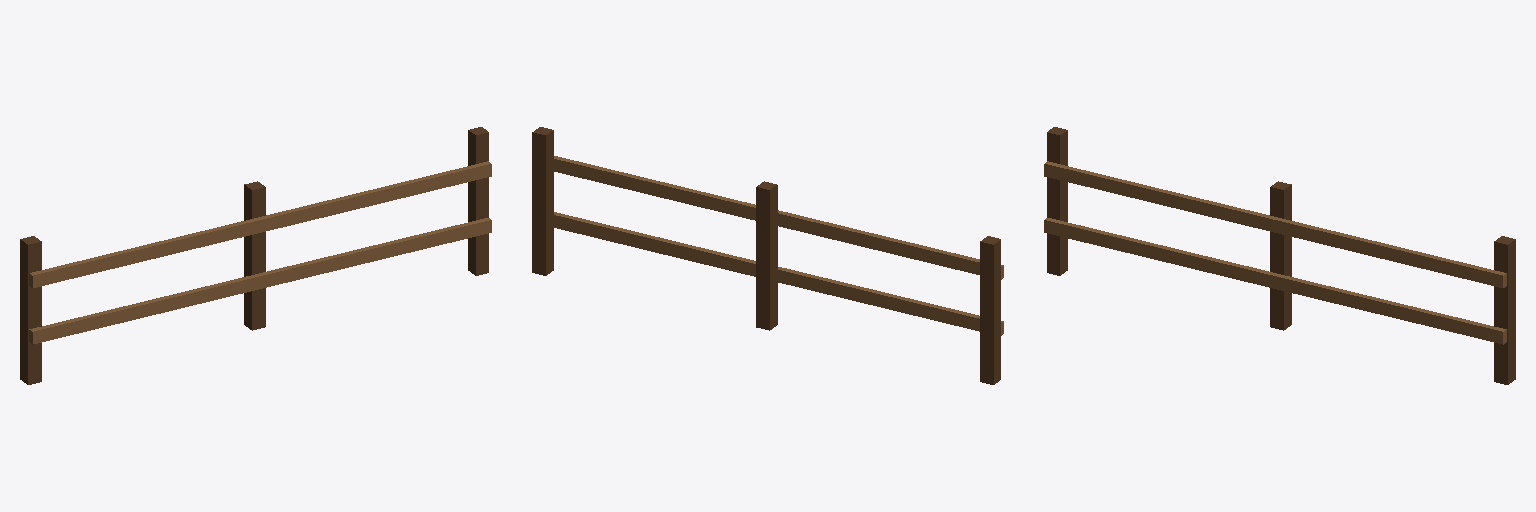
robot.urdf — fence:
<?xml version="1.0" encoding="utf-8"?>
<!-- Generated by tools/generate_assets.py -->
<robot name="fence">
  <link name="base_link">
    <inertial>
      <mass value="0" />
      <inertia ixx="0" ixy="0" ixz="0" iyy="0" iyz="0" izz="0" />
    </inertial>
    <visual name="part_0">
      <geometry><mesh filename="meshes/fence_v0.obj" /></geometry>
      <material name="fence_0"><color rgba="0.4 0.29 0.19 1" /></material>
    </visual>
    <visual name="part_1">
      <geometry><mesh filename="meshes/fence_v1.obj" /></geometry>
      <material name="fence_1"><color rgba="0.56 0.42 0.28 1" /></material>
    </visual>
    <collision name="hull_0">
      <geometry><mesh filename="meshes/fence_c0.obj" /></geometry>
    </collision>
    <collision name="hull_1">
      <geometry><mesh filename="meshes/fence_c1.obj" /></geometry>
    </collision>
    <collision name="hull_2">
      <geometry><mesh filename="meshes/fence_c2.obj" /></geometry>
    </collision>
    <collision name="hull_3">
      <geometry><mesh filename="meshes/fence_c3.obj" /></geometry>
    </collision>
    <collision name="hull_4">
      <geometry><mesh filename="meshes/fence_c4.obj" /></geometry>
    </collision>
  </link>
</robot>

--- What the picture shows (computed from the rendered views, not written in the file) ---
The picture shows the robot from 3 angles, left to right: view 1: azimuth 30°, elevation 25°; view 2: azimuth 150°, elevation 25°; view 3: azimuth 330°, elevation 25°; orthographic projection.
Model fence with 1 links and 0 joints (none), rooted at base_link, posed all joints at 0.
Visible links, largest first — view 1: base_link; view 2: base_link; view 3: base_link.
Link boxes in pixels (left/top/right/bottom): base_link: left=20, top=127, right=491, bottom=384; base_link: left=532, top=127, right=1003, bottom=384; base_link: left=1044, top=127, right=1515, bottom=384.
Bounding box of the posed robot: 4.12 × 0.17 × 1.2 m (x, y, z).
2 mesh visuals loaded from 2 distinct referenced files (2 OBJ).
